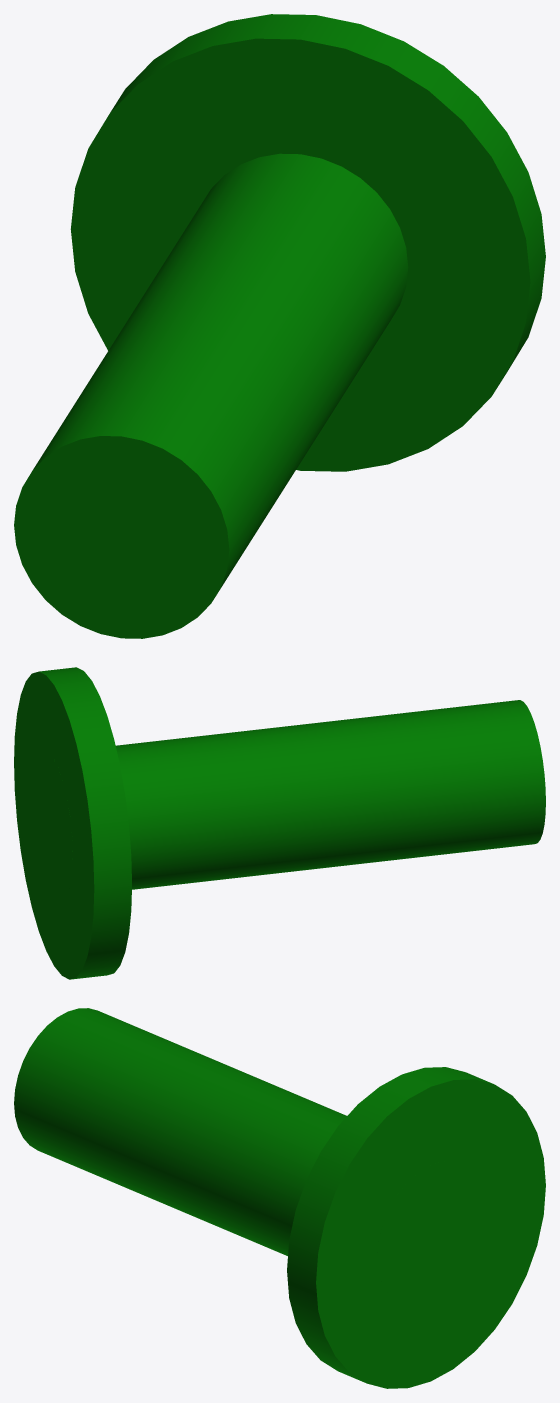
The model's file is Image-1710907700752-2280694927152_50-TG50A.fbx.
3 views of the same model, one above another, from view 1: azimuth 30°, elevation 25°; view 2: azimuth 150°, elevation 25°; view 3: azimuth 270°, elevation 25° (orthographic). The views are drawn at different scales.
Visible parts, largest first — view 1: /50-TG50A-N5; view 2: /50-TG50A-N5; view 3: /50-TG50A-N5.
Boxes of the visible parts, x1,y1,x2,y2 form: /50-TG50A-N5: (14,14,545,638); /50-TG50A-N5: (14,667,545,979); /50-TG50A-N5: (14,1008,545,1388).
Bounding box in the file's own units: 0.3108 × 0.3108 × 0.19.
